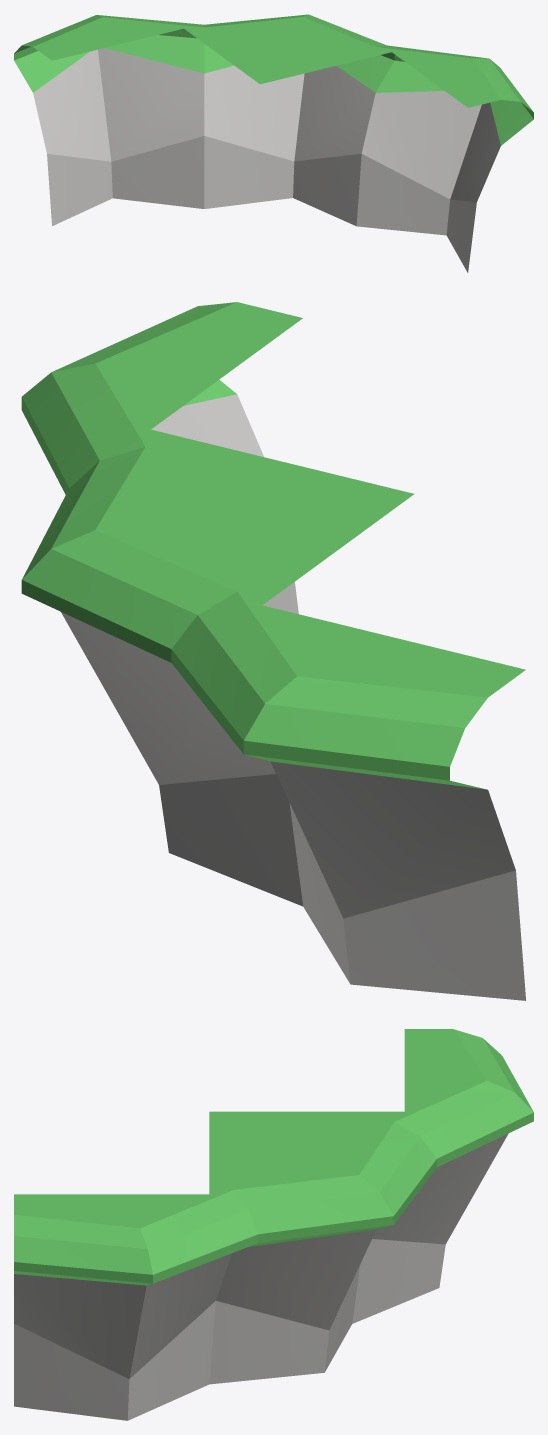
Rendered from Cliff_Terrain_Corner_Outer_3x3_Top.glb.
The picture shows the model from 3 angles, top to bottom: view 1: azimuth 30°, elevation 25°; view 2: azimuth 150°, elevation 25°; view 3: azimuth 270°, elevation 25°; orthographic projection. The views are drawn at different scales.
Visible parts, largest first — view 1: Cliff_Terrain_Corner_Outer_3x3_Top; view 2: Cliff_Terrain_Corner_Outer_3x3_Top; view 3: Cliff_Terrain_Corner_Outer_3x3_Top.
Boxes of the visible parts, <box> form: Cliff_Terrain_Corner_Outer_3x3_Top: <box>14,14,533,272</box>; Cliff_Terrain_Corner_Outer_3x3_Top: <box>21,302,525,1000</box>; Cliff_Terrain_Corner_Outer_3x3_Top: <box>14,1029,533,1420</box>.
Size of the model in its own units: 1.41 by 0.636 by 1.41.
